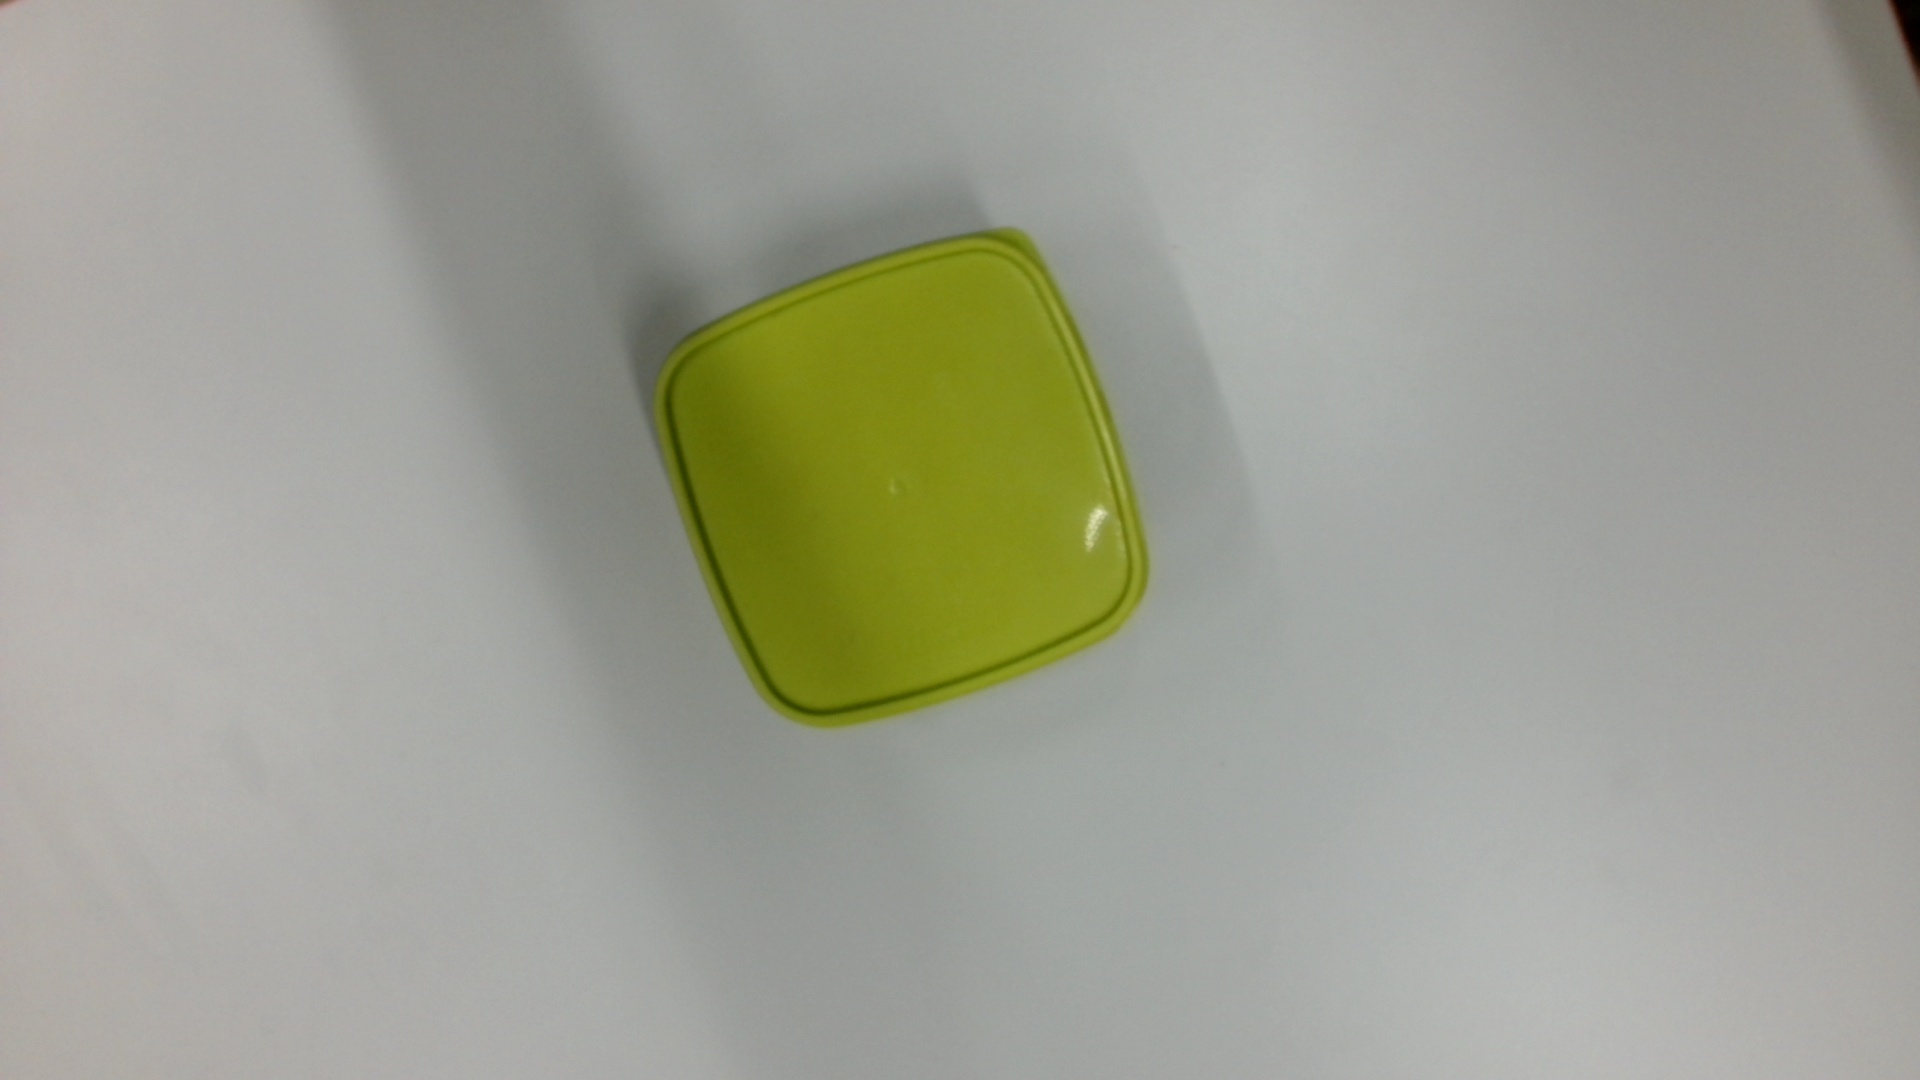Box: (644, 219, 1159, 738)
